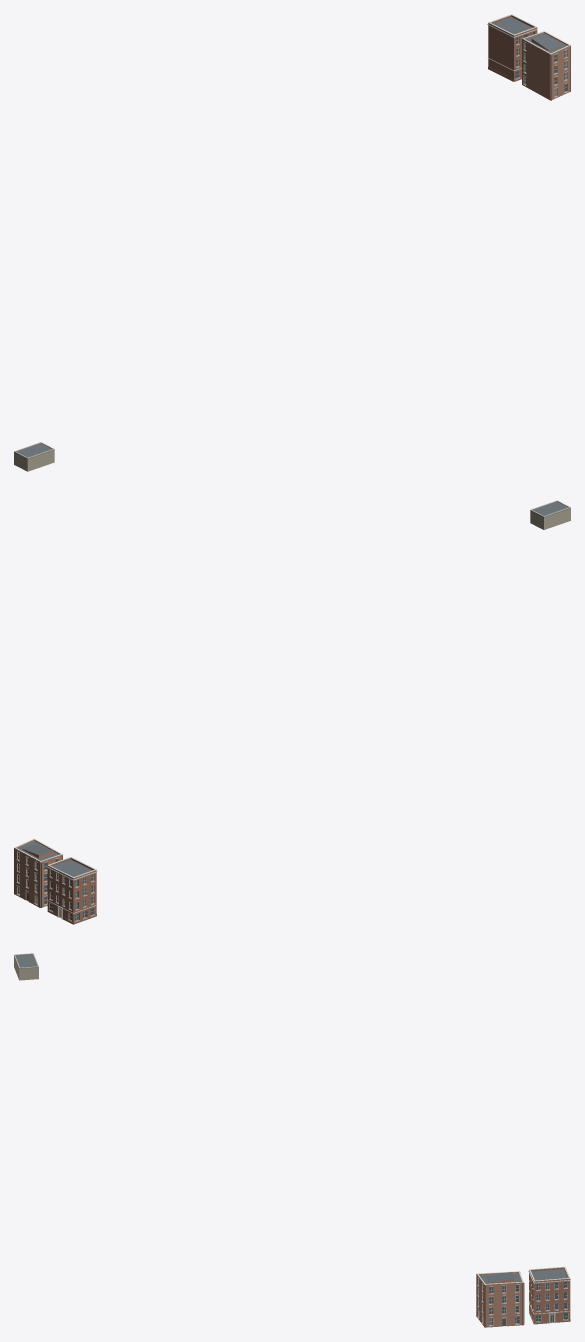
File: replacement.glb
The picture shows the model from 3 angles, top to bottom: view 1: azimuth 30°, elevation 25°; view 2: azimuth 210°, elevation 25°; view 3: azimuth 270°, elevation 25°; orthographic projection. The views are drawn at different scales.
Parts seen in each view (by area): view 1: Albert Close 642055722 | pierced masonry, Albert Close 642055721 | pierced red brick facades; view 2: Albert Close 642055721 | pierced red brick facades, Albert Close 642055722 | pierced masonry, Mews outbuilding1154608369 | continuous closed masonry perim; view 3: Albert Close 642055722 | pierced masonry, Albert Close 642055721 | pierced red brick facades.
Part boxes in pixels (x1,y1,x2,y2): Albert Close 642055722 | pierced masonry: [522, 33, 570, 100]; Albert Close 642055721 | pierced red brick facades: [488, 16, 537, 79]; Albert Close 642055721 | pierced red brick facades: [47, 859, 96, 921]; Albert Close 642055722 | pierced masonry: [14, 840, 62, 907]; Mews outbuilding1154608369 | continuous closed masonry perim: [530, 508, 570, 529]; Albert Close 642055722 | pierced masonry: [476, 1273, 523, 1327]; Albert Close 642055721 | pierced red brick facades: [529, 1268, 570, 1321].
Size of the model in its own units: 245 by 14.08 by 159.
